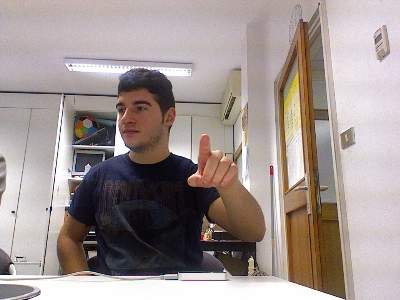食指: (186, 132, 239, 188)
